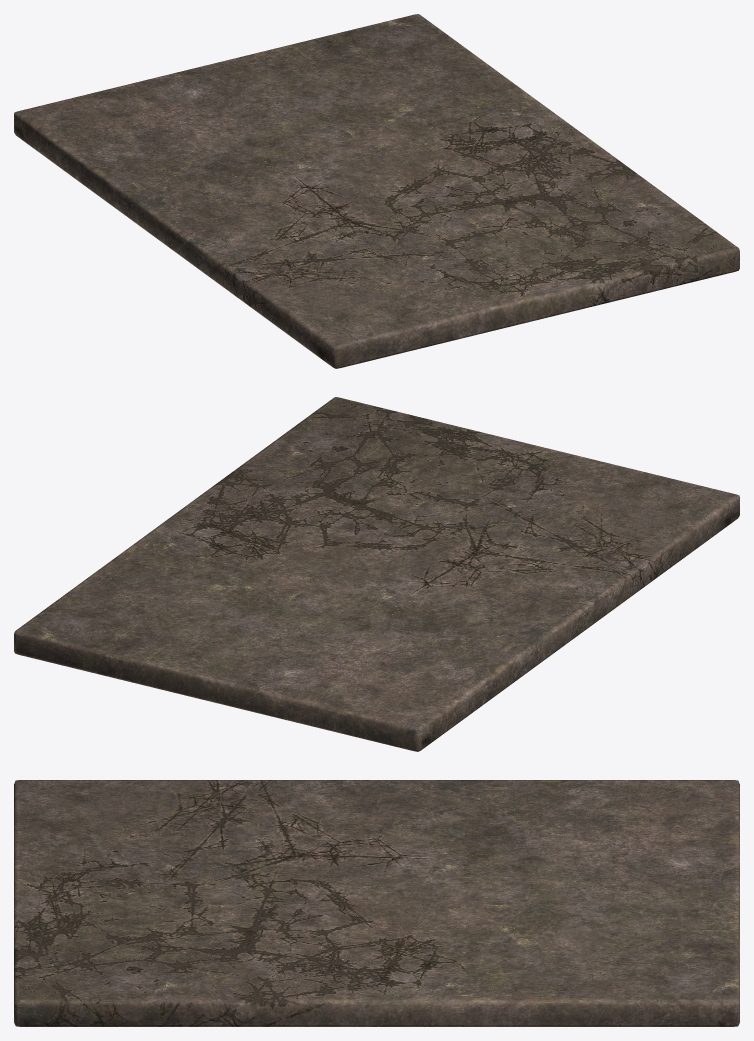
File: SM_tombstone_28.fbx
3 views of the same model, one above another, from view 1: azimuth 30°, elevation 25°; view 2: azimuth 150°, elevation 25°; view 3: azimuth 270°, elevation 25° (orthographic). The views are drawn at different scales.
Parts seen in each view (by area): view 1: SM_tombstone_028; view 2: SM_tombstone_028; view 3: SM_tombstone_028.
Part boxes in pixels (left/top/right/bottom): SM_tombstone_028: left=14, top=14, right=739, bottom=368; SM_tombstone_028: left=14, top=397, right=739, bottom=751; SM_tombstone_028: left=14, top=780, right=739, bottom=1026.
Bounding box in the file's own units: 141 × 7.73 × 194.
